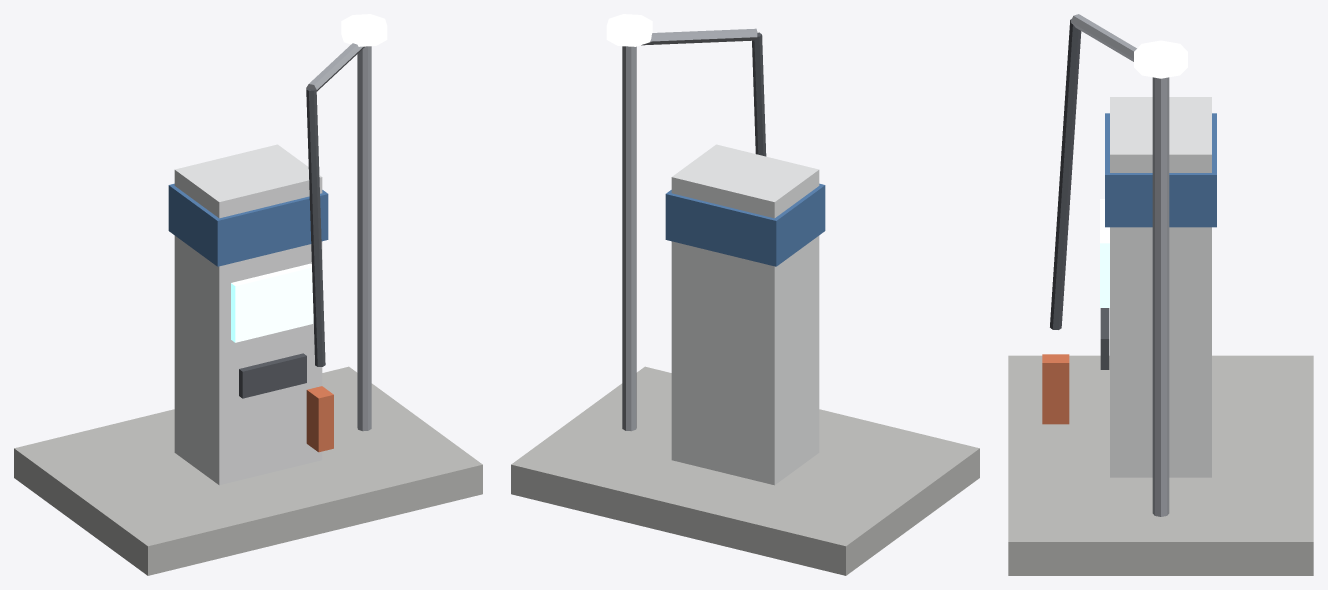
Rendered from aircraft-fleet-and-airfield-self-service-fuel-pump-1680c424__32828.glb.
3 views of the same model, side by side, from view 1: azimuth 30°, elevation 25°; view 2: azimuth 150°, elevation 25°; view 3: azimuth 270°, elevation 25° (orthographic). The views are drawn at different scales.
Visible parts, largest first — view 1: self-service-fuel-pump; view 2: self-service-fuel-pump; view 3: self-service-fuel-pump.
Part boxes in pixels (<box>): self-service-fuel-pump: <box>14,14,482,575</box>; self-service-fuel-pump: <box>511,14,979,575</box>; self-service-fuel-pump: <box>1008,14,1313,575</box>.
Bounding box in the file's own units: 2.6 × 3.26 × 1.8.
